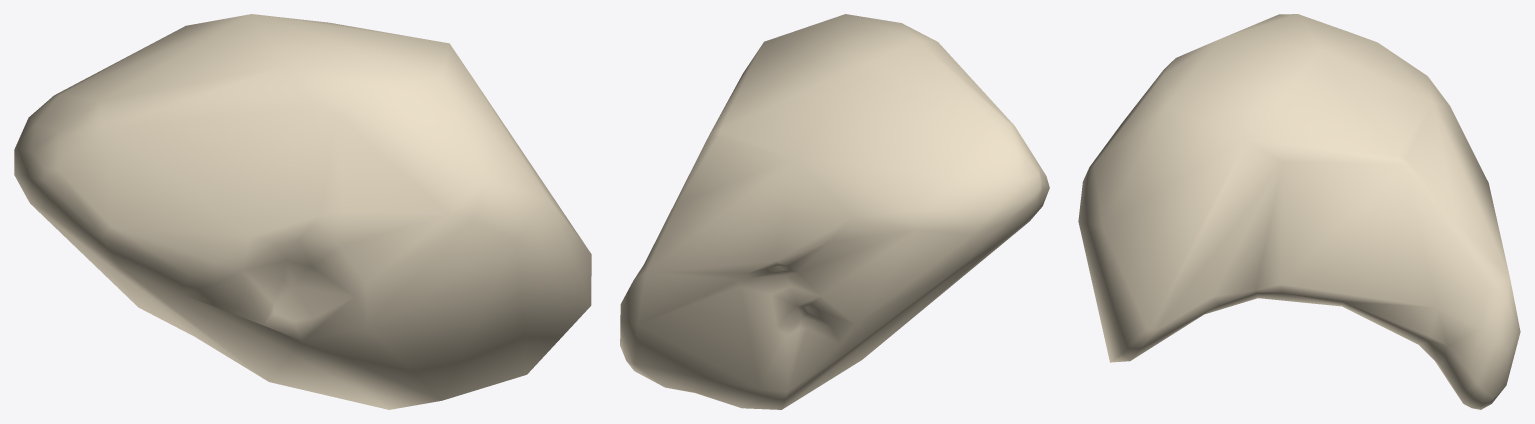
File: lunate-bone-l.glb
The picture shows the model from 3 angles, left to right: view 1: azimuth 30°, elevation 25°; view 2: azimuth 150°, elevation 25°; view 3: azimuth 270°, elevation 25°; orthographic projection. The views are drawn at different scales.
Visible parts, largest first — view 1: Lunate bone.l; view 2: Lunate bone.l; view 3: Lunate bone.l.
Part boxes in pixels (<box>): Lunate bone.l: <box>14,14,591,409</box>; Lunate bone.l: <box>620,14,1049,409</box>; Lunate bone.l: <box>1078,14,1520,409</box>.
Size of the model in its own units: 0.0173 by 0.0132 by 0.0172.
